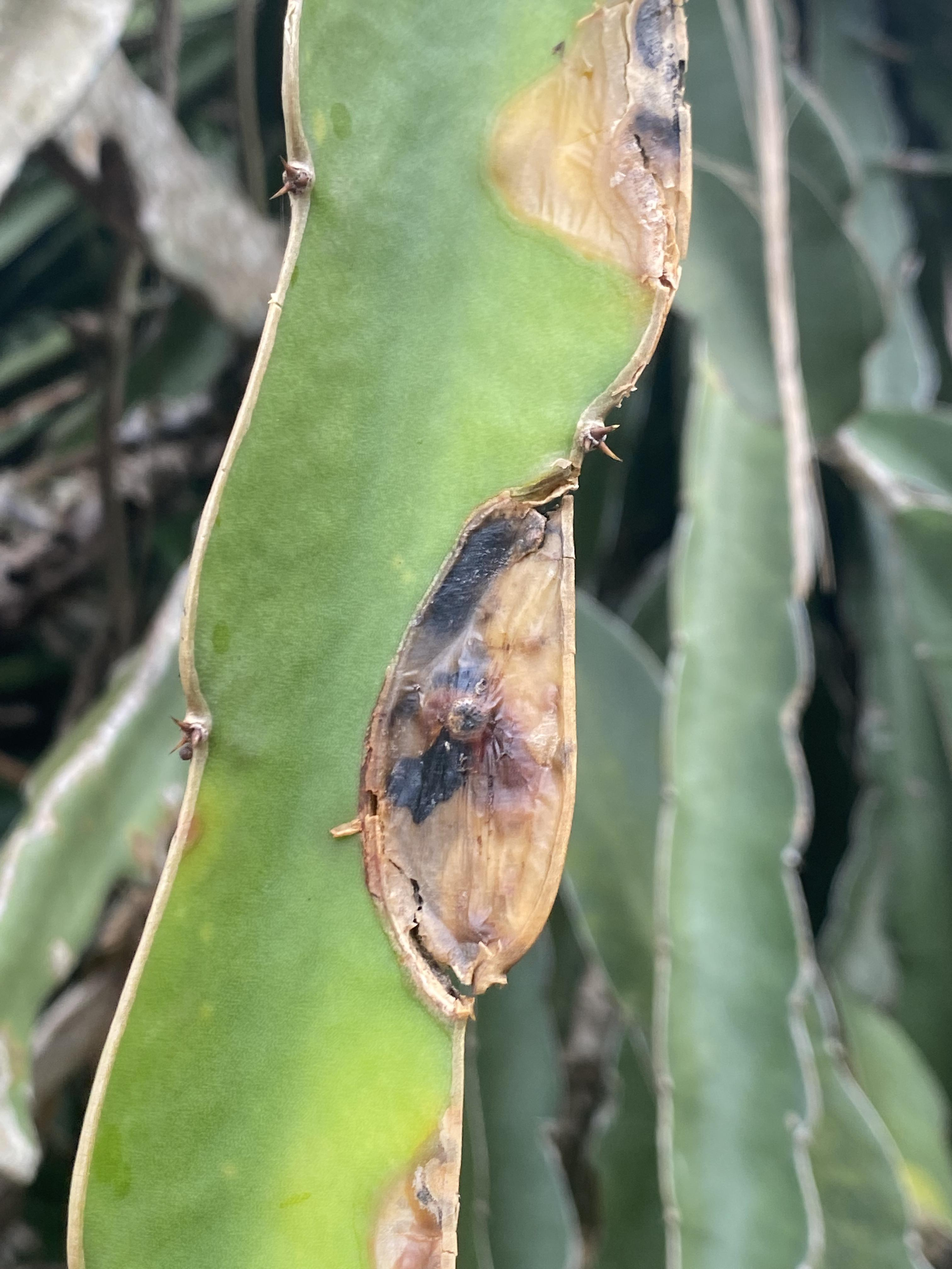stemcanker: (351, 478, 582, 1019), (480, 1, 700, 309), (365, 1103, 467, 1269)
